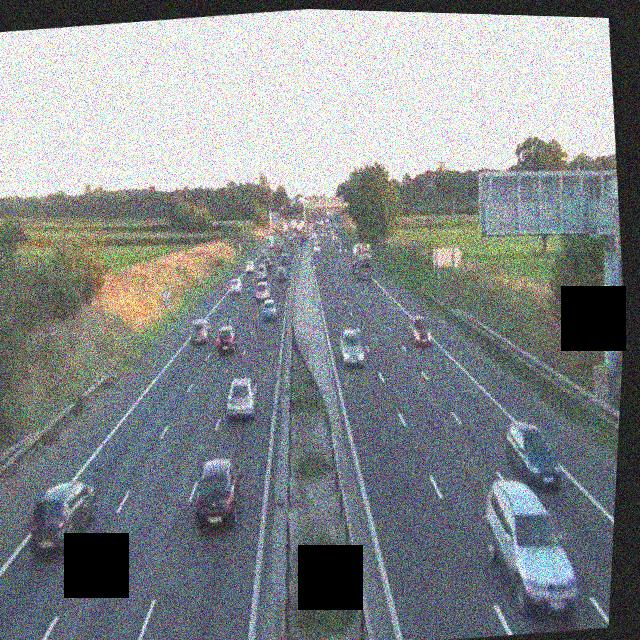car: (476, 471, 585, 623), (25, 477, 101, 557), (500, 417, 564, 495), (188, 455, 249, 532), (224, 375, 260, 420), (337, 327, 367, 367), (407, 313, 433, 346), (214, 322, 239, 355), (187, 317, 214, 346), (258, 295, 278, 321), (253, 279, 272, 303), (226, 278, 242, 295), (273, 266, 287, 283), (259, 262, 270, 277), (312, 240, 322, 253), (285, 238, 295, 251), (280, 252, 289, 265), (337, 241, 346, 253)
truck: (349, 240, 373, 281)
